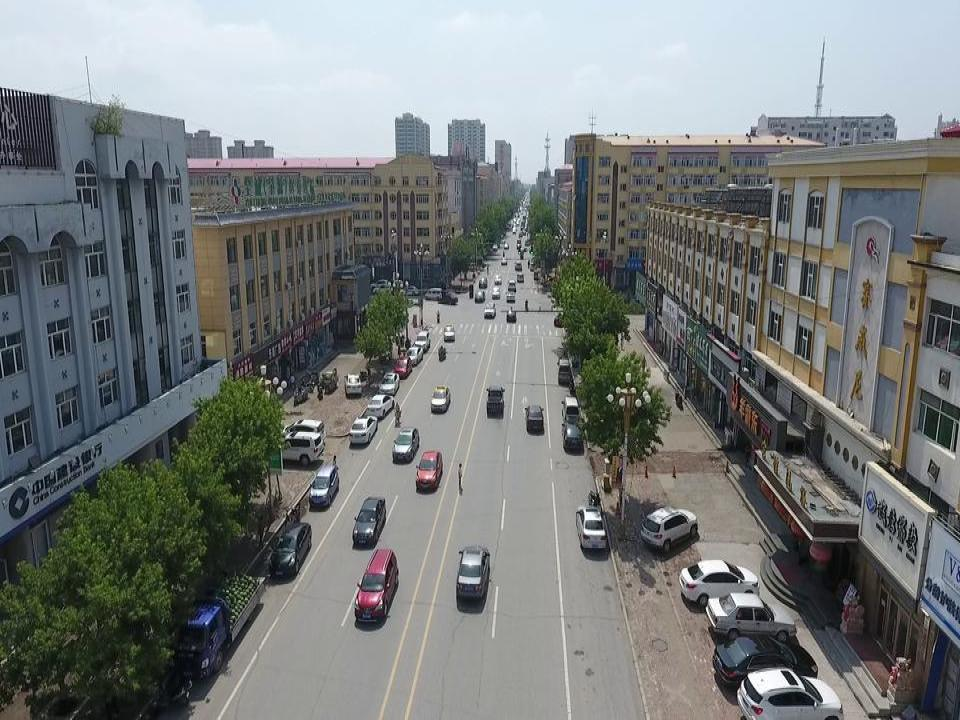car: (712, 635, 818, 689), (706, 594, 797, 646), (679, 558, 759, 606), (269, 520, 311, 576), (456, 546, 490, 601), (352, 496, 386, 543), (576, 504, 607, 549), (415, 451, 442, 488), (392, 427, 419, 460), (349, 416, 378, 443), (366, 393, 394, 418), (561, 420, 584, 449), (524, 405, 544, 431), (431, 385, 450, 411), (379, 373, 399, 396), (394, 356, 412, 379), (344, 373, 361, 395), (405, 347, 423, 365), (554, 313, 573, 327), (437, 294, 458, 306), (443, 324, 455, 341), (400, 285, 418, 296), (474, 290, 485, 302), (506, 308, 516, 321), (505, 291, 515, 301), (491, 287, 500, 297), (529, 260, 537, 271), (494, 275, 502, 284), (501, 258, 508, 266), (491, 244, 498, 249), (524, 240, 531, 245), (503, 243, 509, 248), (516, 238, 521, 242)
truck: (171, 576, 266, 676)
van: (737, 666, 844, 720), (354, 550, 398, 622), (640, 507, 698, 552), (269, 430, 324, 466), (275, 419, 325, 449), (309, 466, 339, 506), (561, 397, 580, 424), (557, 359, 571, 384), (414, 331, 430, 352), (373, 284, 393, 296), (424, 288, 442, 301), (370, 278, 389, 290), (484, 302, 496, 318), (478, 276, 487, 288), (507, 280, 516, 291), (514, 261, 522, 271), (516, 274, 524, 282), (521, 229, 526, 235), (512, 230, 516, 234), (519, 232, 522, 237)
